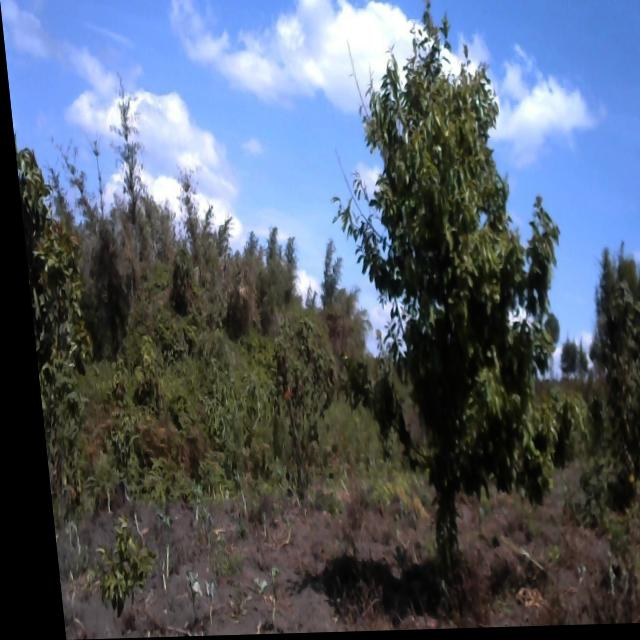Hass Avocado: (304, 0, 589, 594)
